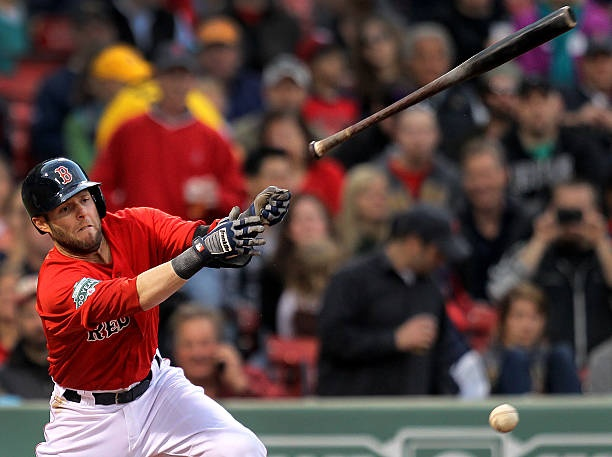bita: (309, 10, 576, 155)
